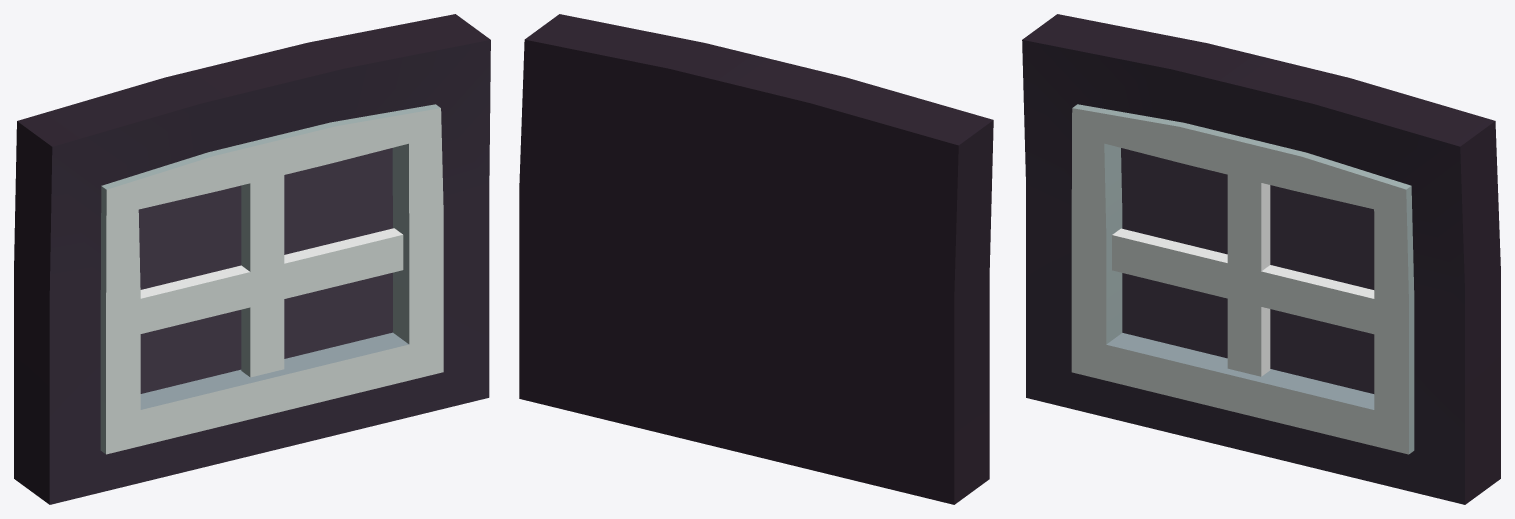
File: Window02_Black_White.glb
The picture shows the model from 3 angles, left to right: view 1: azimuth 30°, elevation 25°; view 2: azimuth 150°, elevation 25°; view 3: azimuth 330°, elevation 25°; orthographic projection.
Parts seen in each view (by area): view 1: Window02_Black_White; view 2: Window02_Black_White; view 3: Window02_Black_White.
Boxes of the visible parts, left/top/right/bottom form: Window02_Black_White: left=14, top=14, right=490, bottom=504; Window02_Black_White: left=519, top=14, right=993, bottom=504; Window02_Black_White: left=1022, top=14, right=1500, bottom=504.
Bounding box in the file's own units: 0.9012 × 0.7186 × 0.1456.
Materials: 1 (1 with a texture image).
